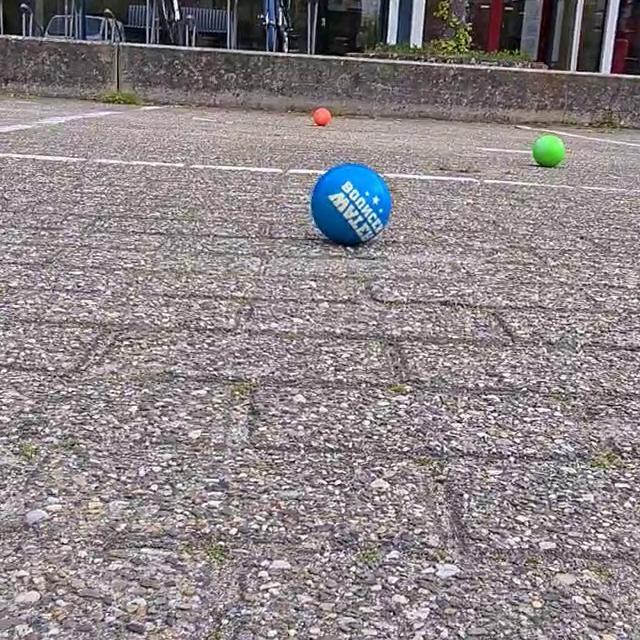ball: (530, 133, 567, 172), (310, 104, 334, 129)
